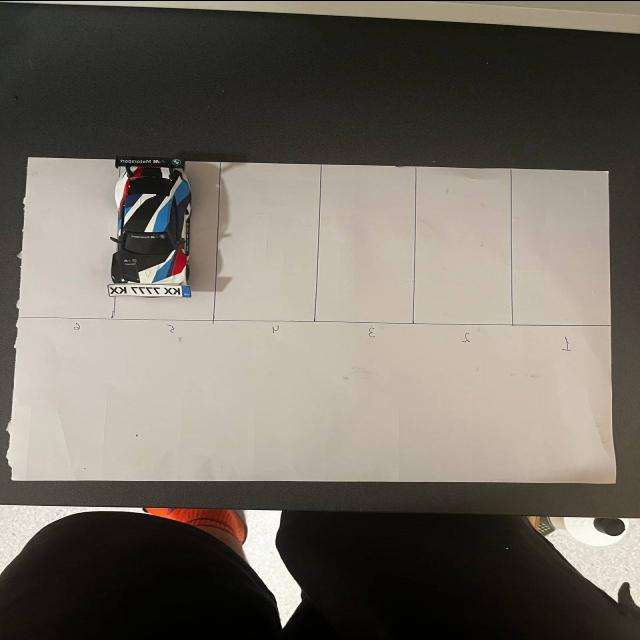cars: (99, 152, 205, 318)
